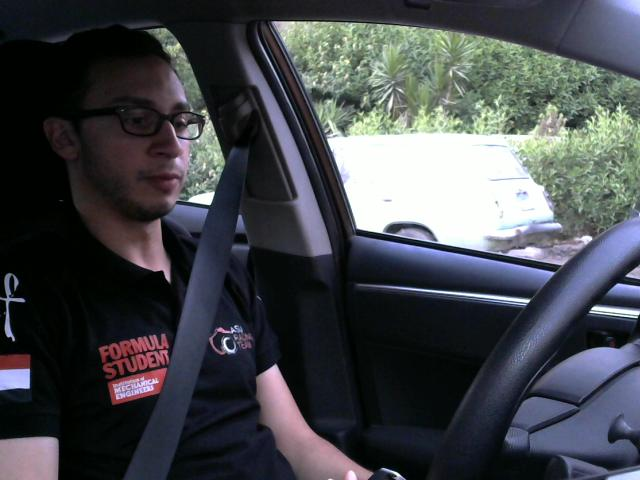Drinking: (0, 347, 39, 395)
